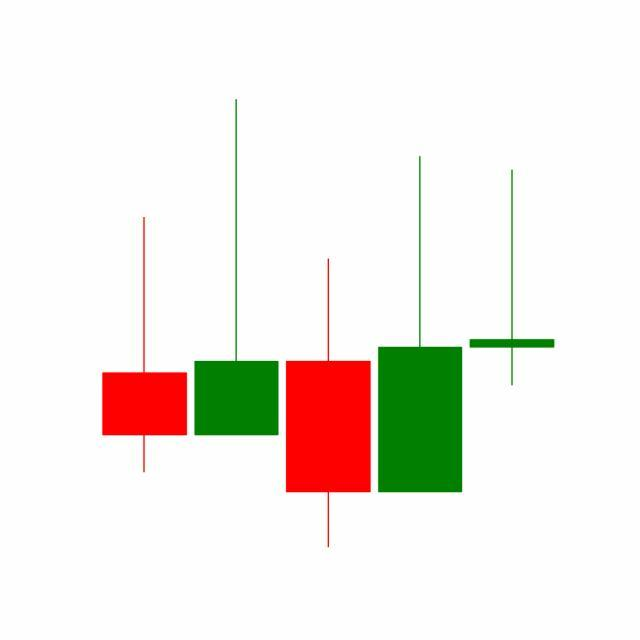Spinning Top: (466, 168, 559, 389)
